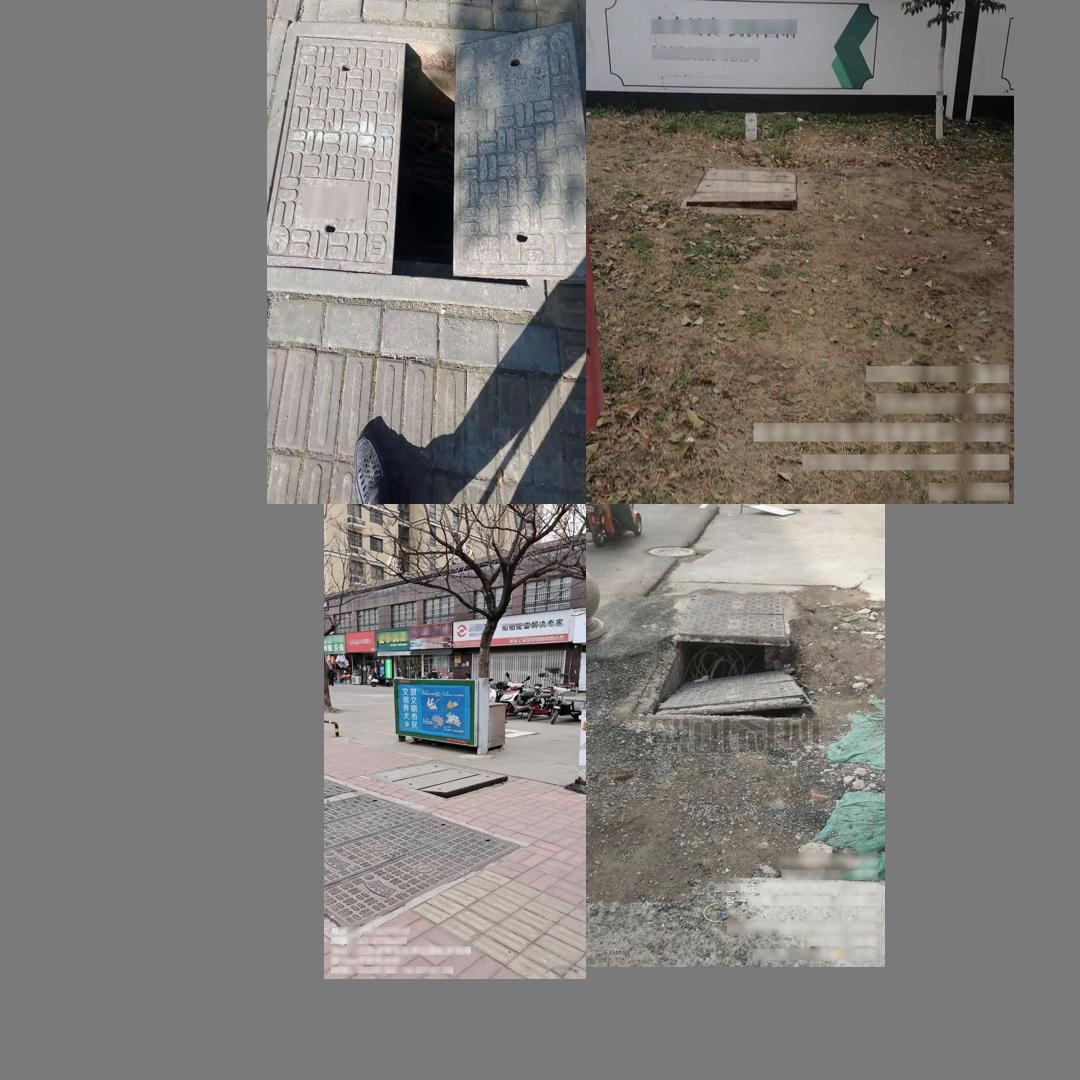uncovered: (296, 6, 580, 308), (631, 590, 813, 721), (681, 165, 800, 215), (363, 760, 511, 799)
